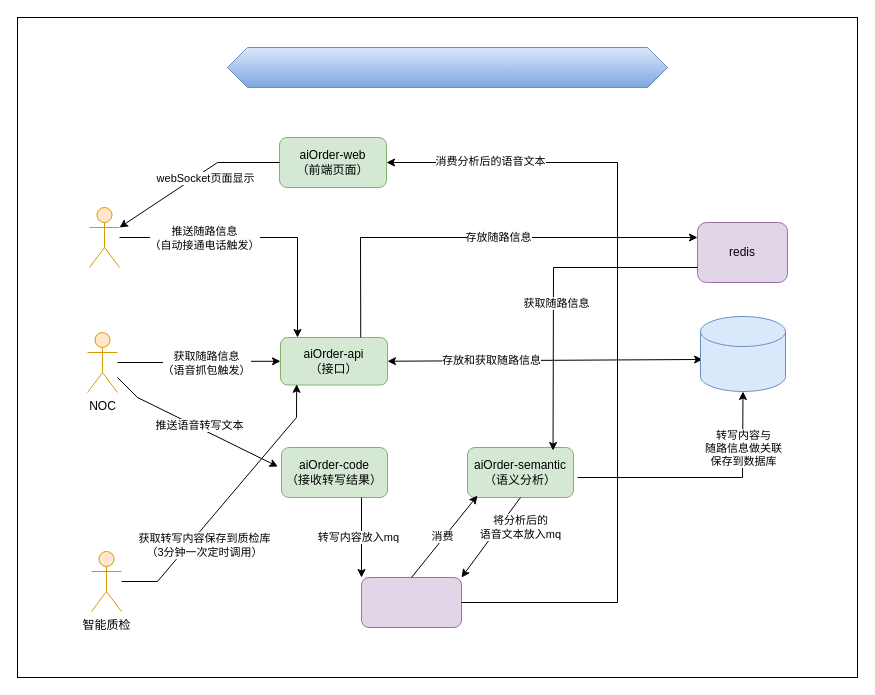
Image size: 875x695. Some labels were removed from this diagram. Each missing label, with the centre of its shape:
AI-ORDER项目(实时转写)-服务架构: [447,67]
rocketmq: [411,602]
坐席（200/300）: [104,237]
数据库: [743,354]
